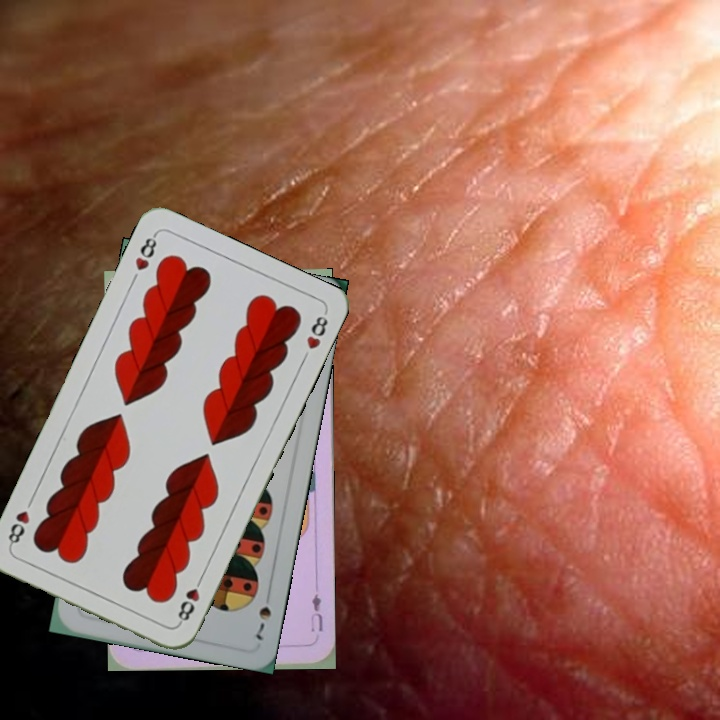EU: (307, 590, 325, 635)
H8: (173, 571, 206, 627), (131, 229, 160, 273)
S7: (252, 586, 274, 643)
